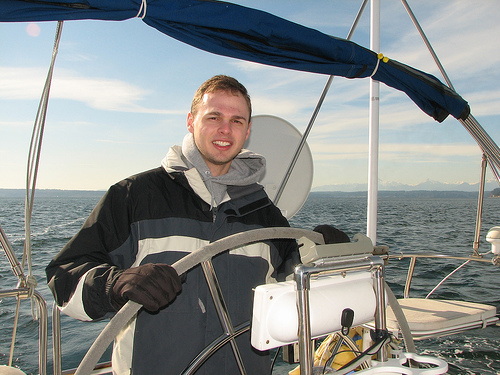without_mask: (187, 90, 253, 164)
